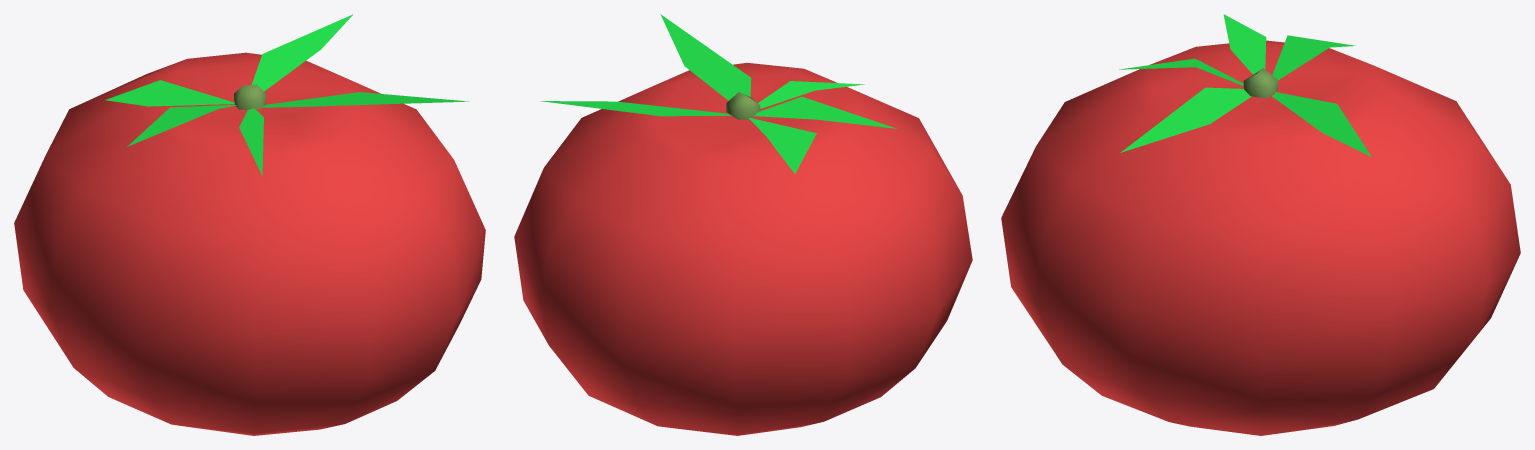
Rendered from tomato.glb.
The picture shows the model from 3 angles, left to right: view 1: azimuth 30°, elevation 25°; view 2: azimuth 150°, elevation 25°; view 3: azimuth 270°, elevation 25°; orthographic projection. The views are drawn at different scales.
Visible parts, largest first — view 1: tomato; view 2: tomato; view 3: tomato.
Part boxes in pixels (box(x1,y1,x2,y2)): tomato: box(14, 14, 485, 435); tomato: box(514, 14, 972, 435); tomato: box(1001, 14, 1520, 435).
Size of the model in its own units: 0.3386 by 0.2425 by 0.3657.
